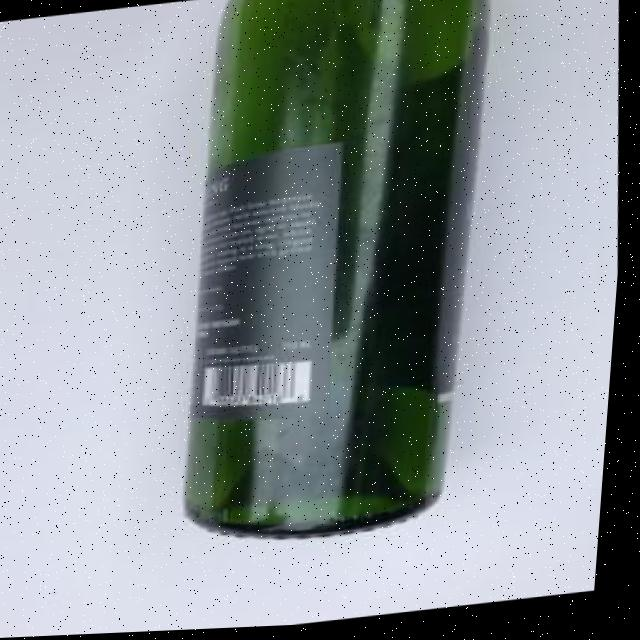glass: (142, 0, 535, 562)
